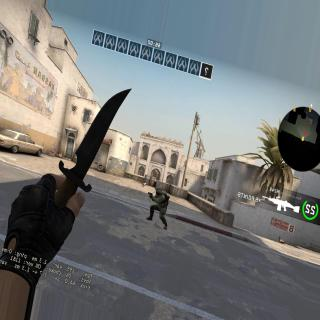CT-Body: (147, 184, 172, 221)
CT-Head: (154, 187, 162, 196)
